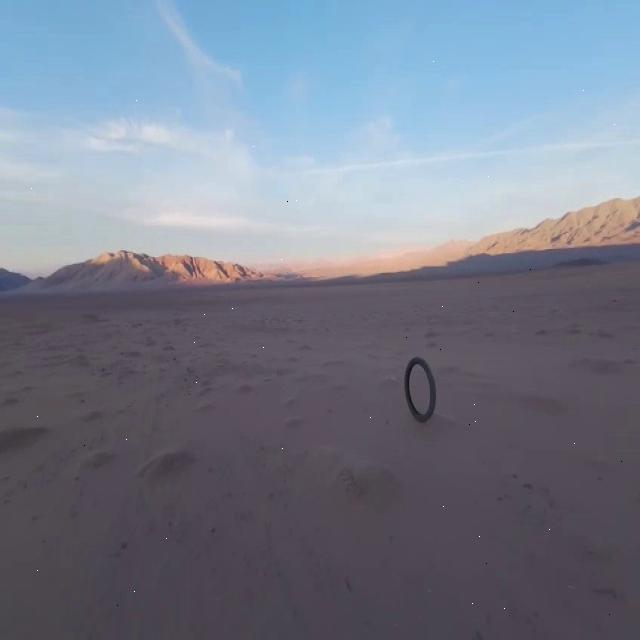Tire: (405, 356, 436, 422)
